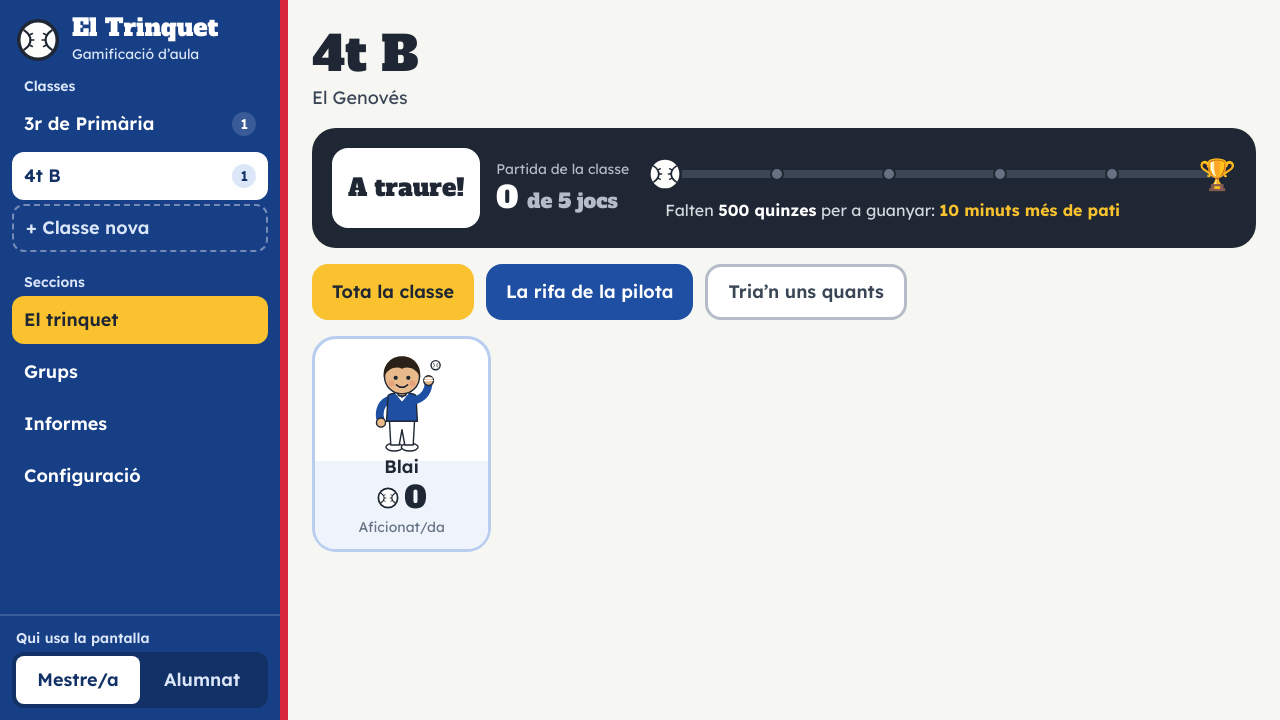
Test: diverses classes › en canviar de classe es veuen els seus alumnes, i els quinzes van només a eixa classe
Click the button with aria-label "Blai:".
click(402, 444)  # box [312,336,491,552]
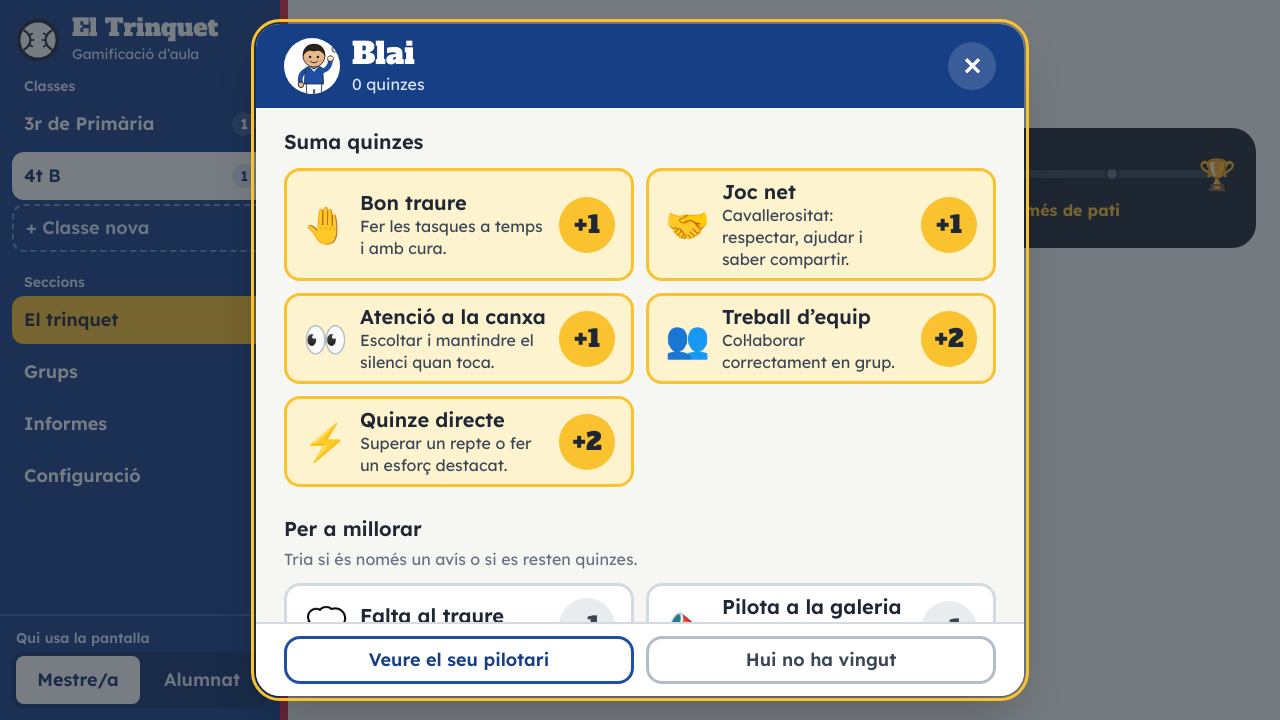
Click the button "Quinze directe".
click(459, 442)  # box [284,396,634,487]
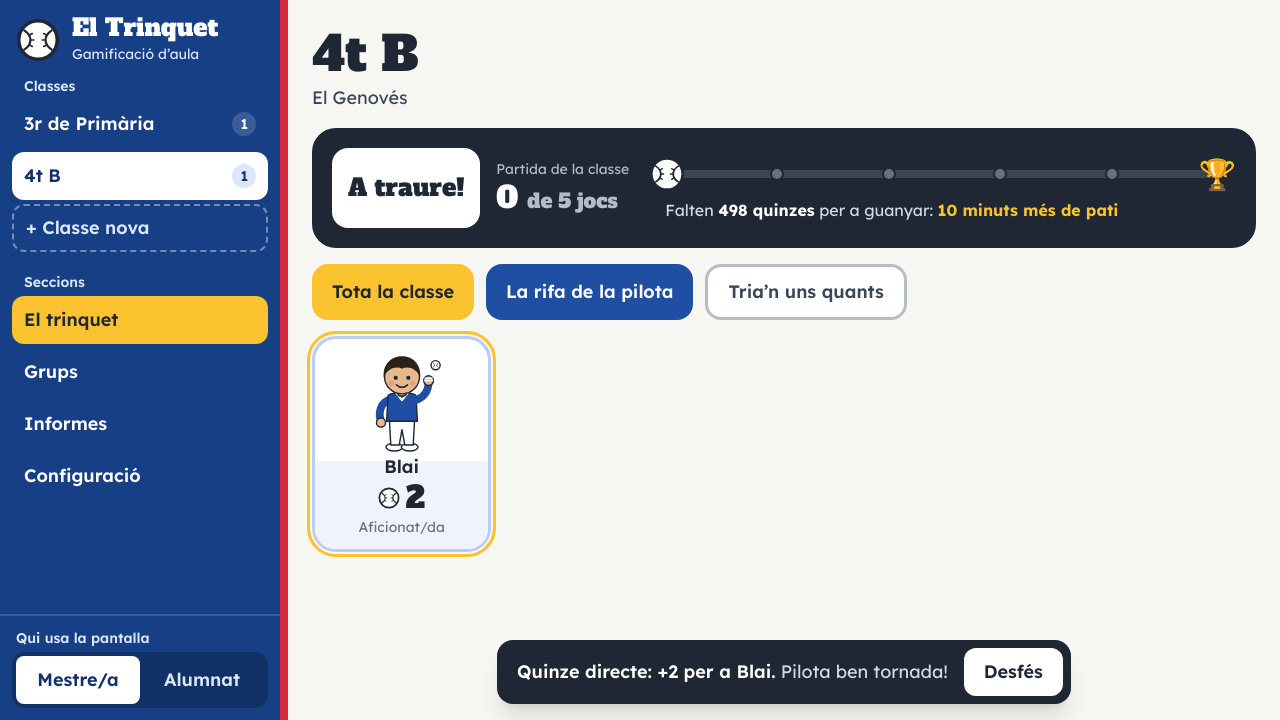
Click the button "3r de Primària 1".
click(140, 124)  # box [12,100,268,148]
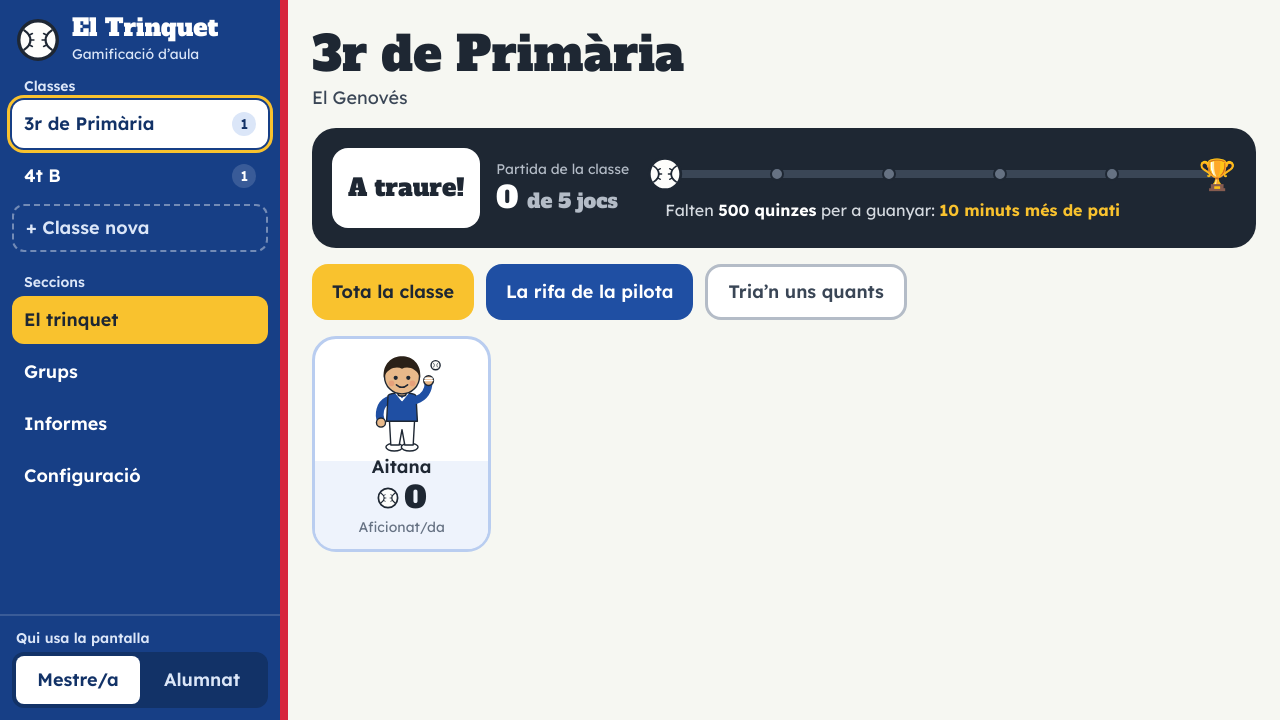
Expected: the button "Desfés" is gone
